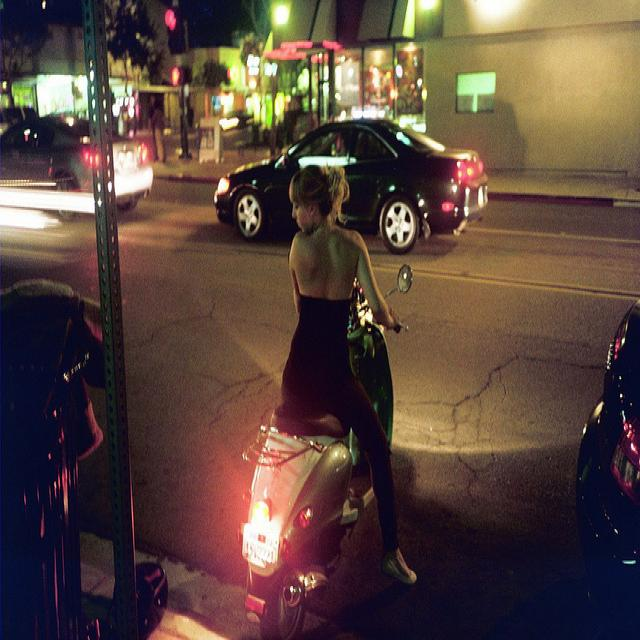Motorbike: (236, 264, 413, 640)
